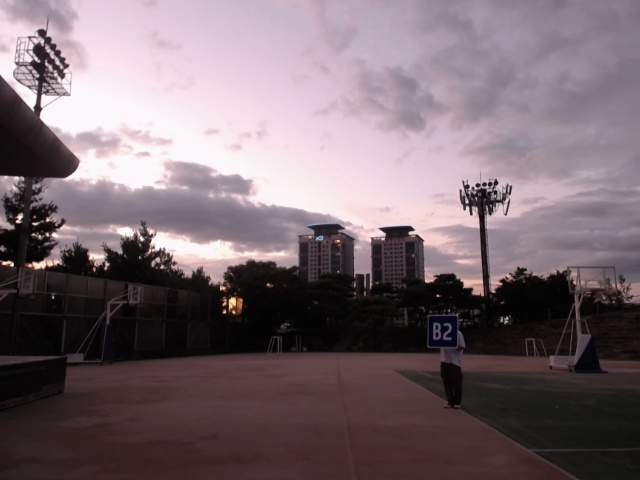delivery_b2: (426, 312, 458, 348)
